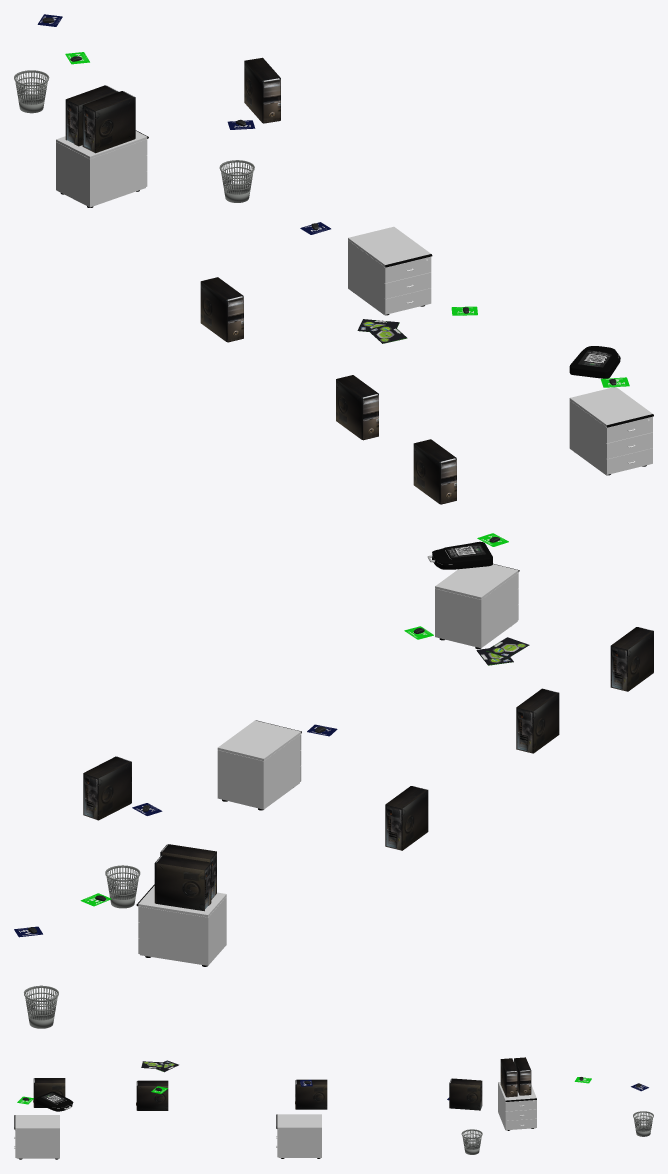
File: postazioniparte1.gltf
3 views of the same model, one above another, from view 1: azimuth 30°, elevation 25°; view 2: azimuth 150°, elevation 25°; view 3: azimuth 270°, elevation 25° (orthographic). The views are drawn at different scales.
Parts seen in each view (by area): view 1: Copia Cassettiera, Lorenzo Cassettiera, Lello Cassettiera, Lello Pc Case 2, Lorenzo Pc Case, Copia PC Case, Ciro Pc Case, Bianco PC Case, Lorenzo Zaino, Lello Pc Case 1, Lello Cestino, Bianco Cestino; view 2: Copia Cassettiera, Lorenzo Cassettiera, Lello Cassettiera, Lello Pc Case 1, Bianco PC Case, Lorenzo Pc Case, Ciro Pc Case, Copia PC Case, Lorenzo Zaino, Bianco Cestino, Lello Cestino, Lello Pc Case 2; view 3: Copia Cassettiera, Lorenzo Cassettiera, Lello Cassettiera, Bianco PC Case, Copia PC Case, Ciro Pc Case, Lorenzo Pc Case, Lello Pc Case 2, Lello Pc Case 1, Lorenzo Zaino, Bianco Cestino, Lello Cestino.
Boxes of the visible parts, left/top/right/bottom form: Copia Cassettiera: left=348, top=226, right=432, bottom=315; Lorenzo Cassettiera: left=569, top=387, right=653, bottom=475; Lello Cassettiera: left=56, top=130, right=148, bottom=207; Lello Pc Case 2: left=82, top=91, right=135, bottom=153; Lorenzo Pc Case: left=413, top=439, right=456, bottom=504; Copia PC Case: left=200, top=277, right=243, bottom=342; Ciro Pc Case: left=336, top=375, right=378, bottom=440; Bianco PC Case: left=244, top=57, right=280, bottom=123; Lorenzo Zaino: left=569, top=346, right=620, bottom=378; Lello Pc Case 1: left=65, top=85, right=118, bottom=146; Lello Cestino: left=14, top=70, right=49, bottom=113; Bianco Cestino: left=219, top=160, right=254, bottom=202; Copia Cassettiera: left=217, top=720, right=301, bottom=810; Lorenzo Cassettiera: left=435, top=563, right=519, bottom=648; Lello Cassettiera: left=136, top=884, right=226, bottom=966; Lello Pc Case 1: left=154, top=855, right=211, bottom=911; Bianco PC Case: left=83, top=756, right=131, bottom=820; Lorenzo Pc Case: left=610, top=627, right=653, bottom=691; Ciro Pc Case: left=516, top=688, right=559, bottom=753; Copia PC Case: left=385, top=786, right=428, bottom=850; Lorenzo Zaino: left=427, top=541, right=492, bottom=569; Bianco Cestino: left=105, top=865, right=140, bottom=908; Lello Cestino: left=24, top=985, right=58, bottom=1028; Lello Pc Case 2: left=160, top=844, right=216, bottom=899; Copia Cassettiera: left=276, top=1114, right=321, bottom=1158; Lorenzo Cassettiera: left=14, top=1115, right=59, bottom=1159; Lello Cassettiera: left=498, top=1082, right=536, bottom=1130; Bianco PC Case: left=449, top=1078, right=482, bottom=1110; Copia PC Case: left=295, top=1079, right=327, bottom=1109; Ciro Pc Case: left=136, top=1080, right=168, bottom=1110; Lorenzo Pc Case: left=33, top=1078, right=65, bottom=1107; Lello Pc Case 2: left=500, top=1058, right=517, bottom=1097; Lello Pc Case 1: left=514, top=1057, right=531, bottom=1095; Lorenzo Zaino: left=36, top=1091, right=73, bottom=1111; Bianco Cestino: left=461, top=1129, right=482, bottom=1154; Lello Cestino: left=633, top=1111, right=653, bottom=1136.
Size of the model in its own units: 1.79 by 1.09 by 8.35.
15 materials, 6 textured.
